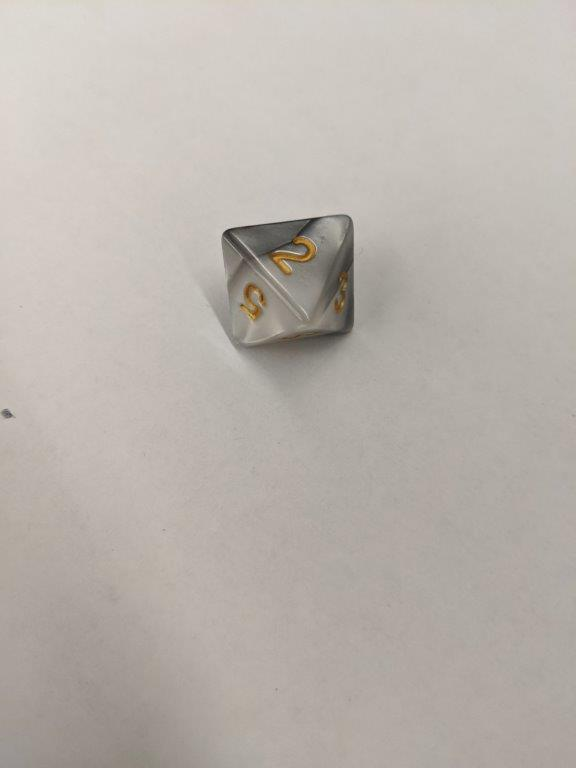d8-2: (223, 211, 355, 348)
